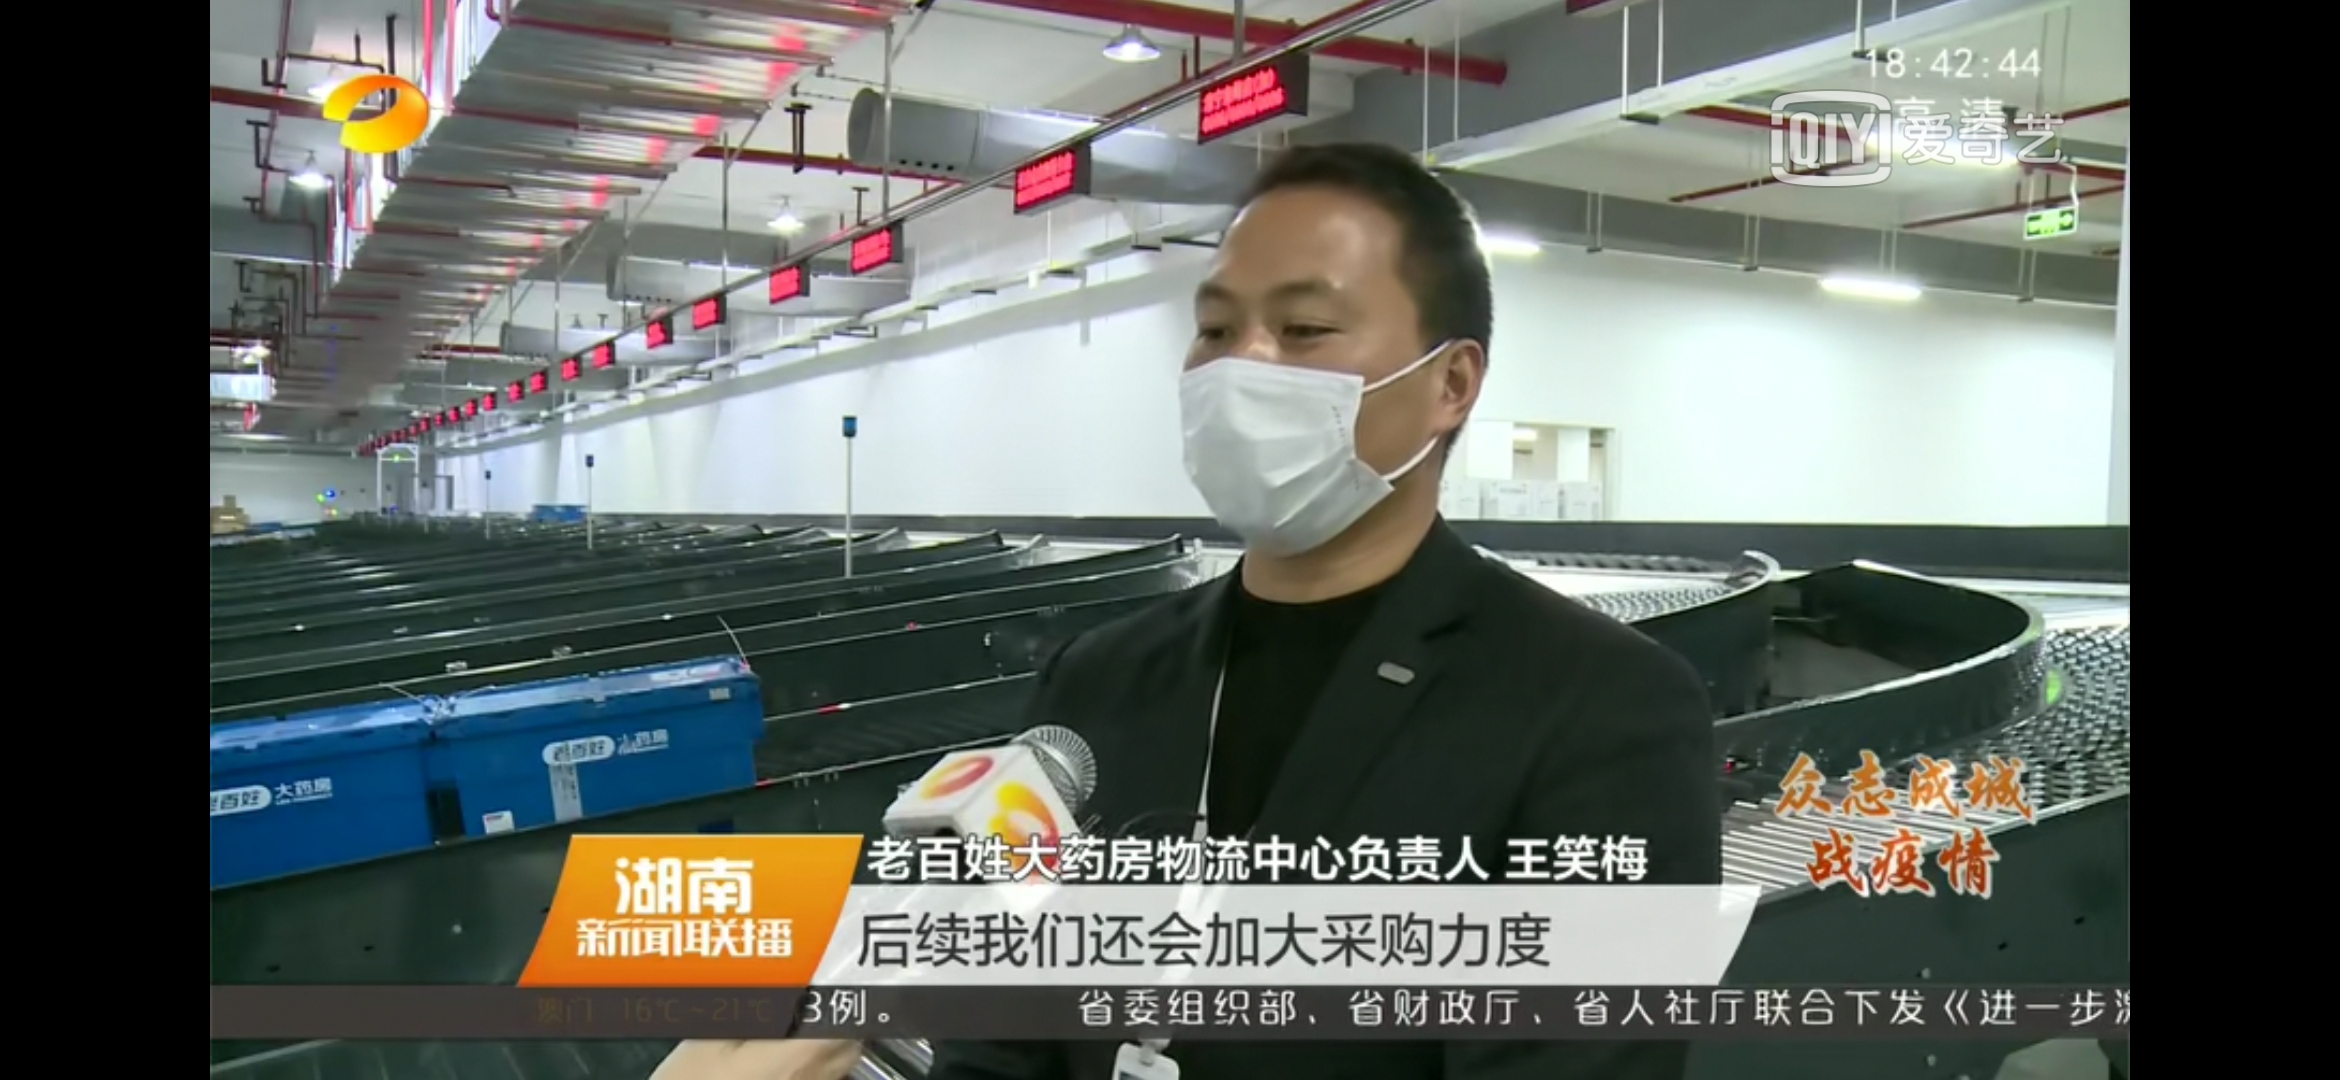correctlyWear: (1171, 260, 1488, 556)
